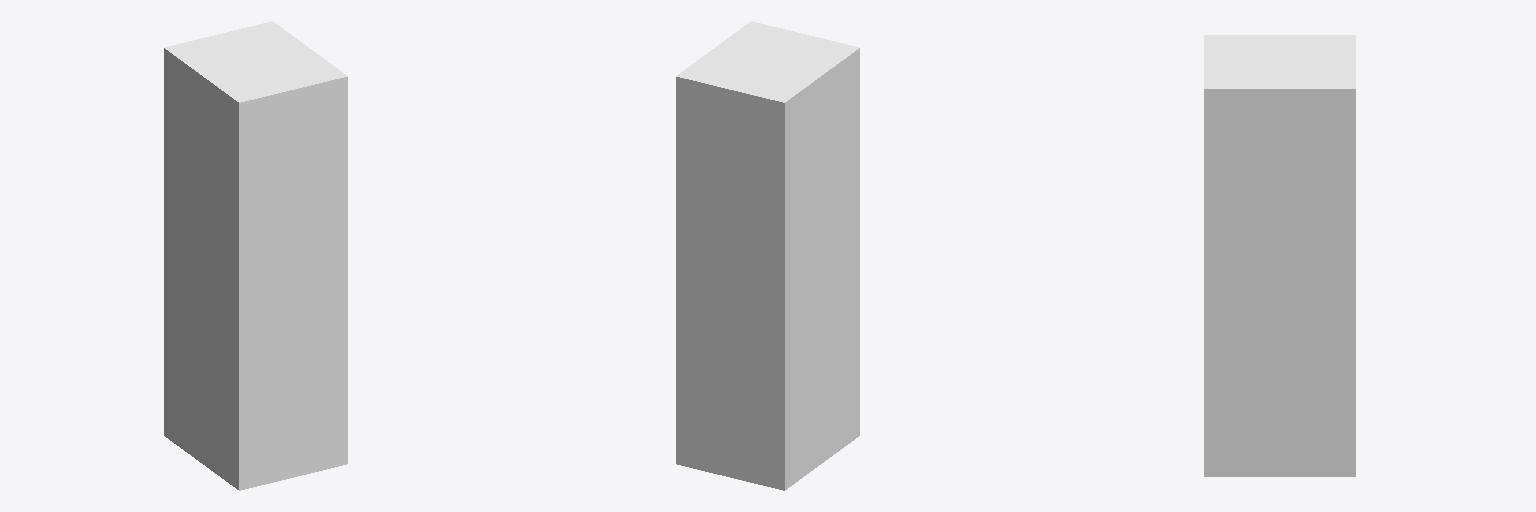
The model's file is Uppperarm.obj.
3 renders of one model, left to right at view 1: azimuth 30°, elevation 25°; view 2: azimuth 150°, elevation 25°; view 3: azimuth 270°, elevation 25°, orthographic.
Parts seen in each view (by area): view 1: object 1; view 2: object 1; view 3: object 1.
Part boxes in pixels (left/top/right/bottom): object 1: left=164, top=21, right=347, bottom=490; object 1: left=676, top=21, right=859, bottom=490; object 1: left=1204, top=35, right=1355, bottom=476.
Bounding box in the file's own units: 0.5 × 1.7 × 0.6.